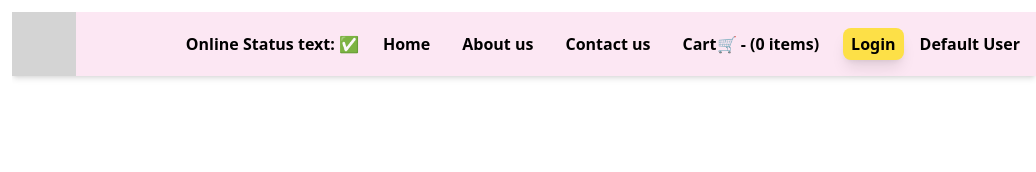
Header component test cases › Should change the Login to Logout on click of Login button in Header component
The width and height of the screenshot is (1036, 172).
Click the button "Login": (873, 44) 843,28 -> 904,60
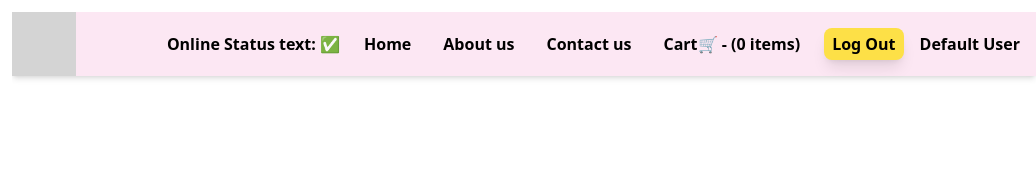
Check: the button "Log Out" is shown, box 824,28 -> 904,60
